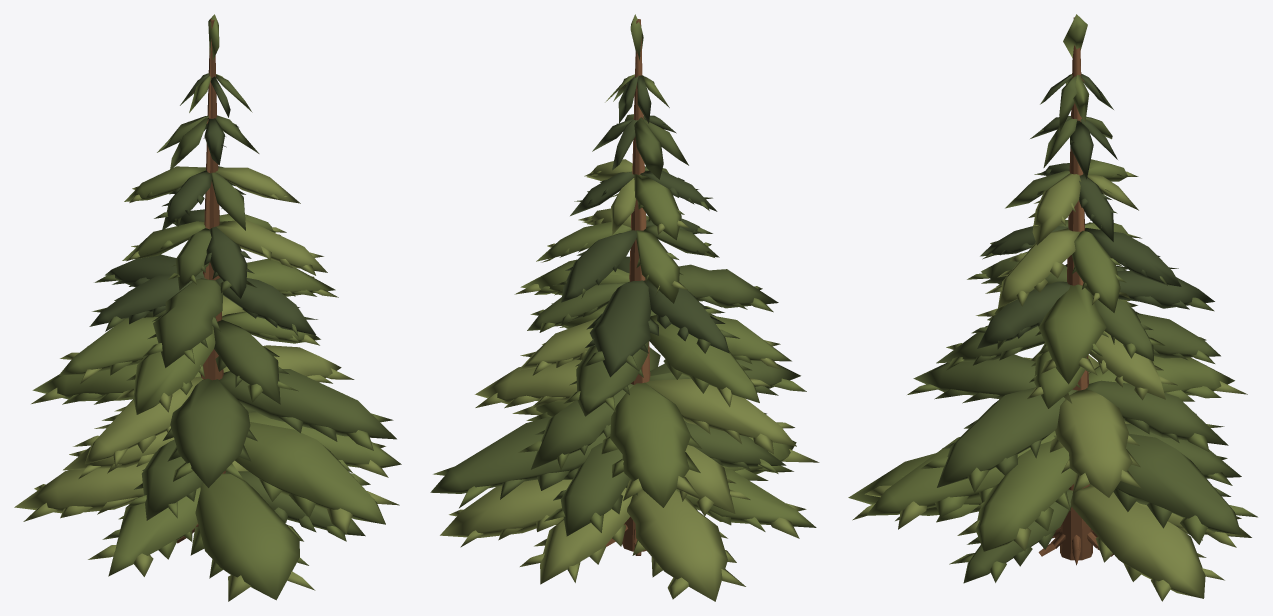
Rendered from pine-3-lod.glb.
3 views of the same model, side by side, from view 1: azimuth 30°, elevation 25°; view 2: azimuth 150°, elevation 25°; view 3: azimuth 270°, elevation 25° (orthographic). The views are drawn at different scales.
Visible parts, largest first — view 1: pine-3; view 2: pine-3; view 3: pine-3.
Boxes of the visible parts, bbox=[...] form: pine-3: bbox=[14, 14, 401, 601]; pine-3: bbox=[430, 14, 819, 601]; pine-3: bbox=[848, 14, 1257, 601].
Bounding box in the file's own units: 5.05 × 8.51 × 5.85.
